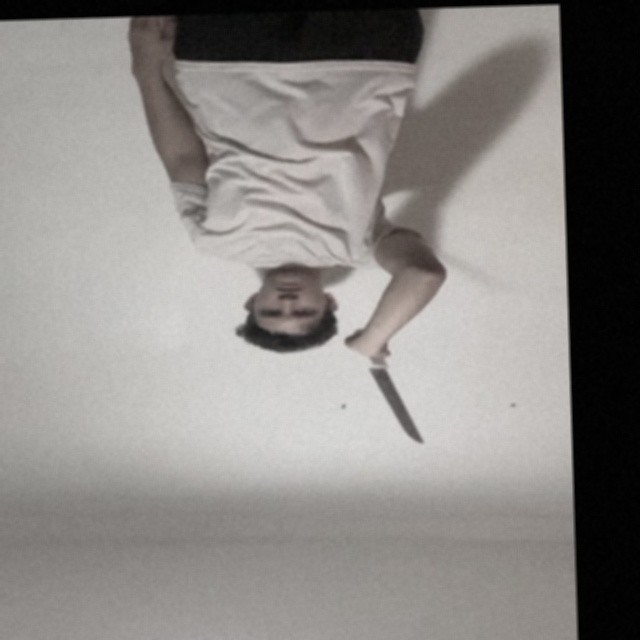Sharp-Object: (367, 365, 426, 448)
